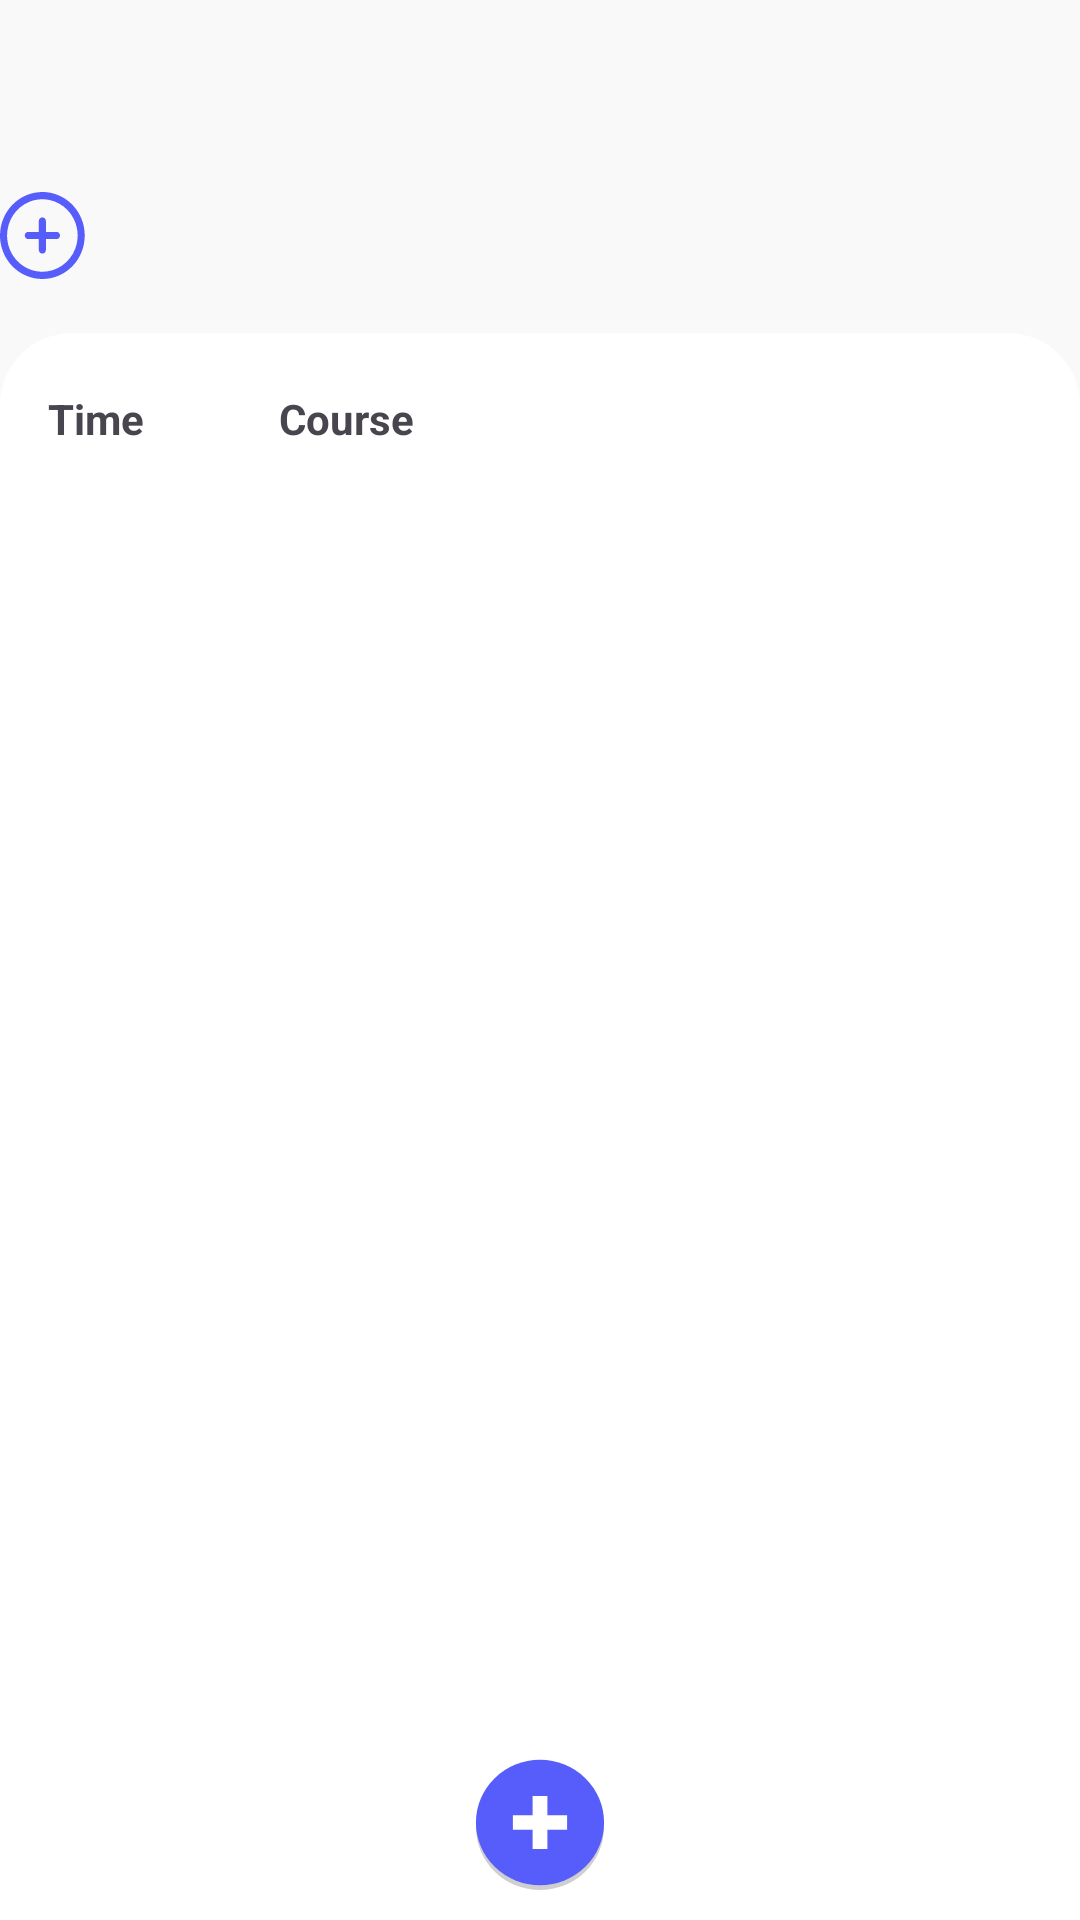

Point at icon controls on the screen. Image size 1080×1920, points as (x=x, y=y).
add: (x=42, y=235), (x=540, y=1824)
